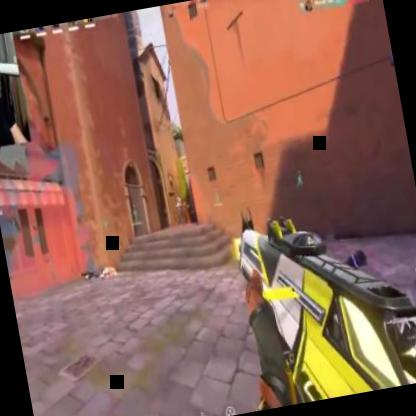enemy: (174, 195, 186, 224)
enemy_head: (176, 195, 181, 203)
